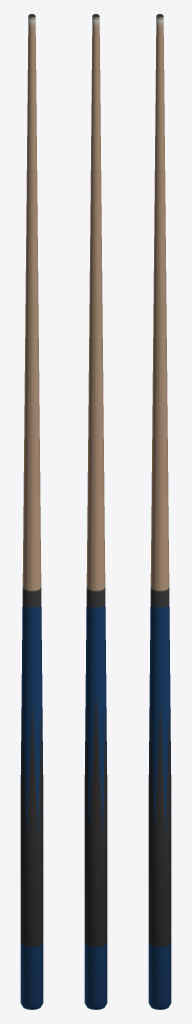
File: poolStick01.dae
3 views of the same model, side by side, from view 1: azimuth 30°, elevation 25°; view 2: azimuth 150°, elevation 25°; view 3: azimuth 330°, elevation 25° (orthographic).
Parts seen in each view (by area): view 1: poolStick01; view 2: poolStick01; view 3: poolStick01.
Part boxes in pixels (bbox=[...]): poolStick01: bbox=[20, 14, 43, 1009]; poolStick01: bbox=[84, 14, 107, 1009]; poolStick01: bbox=[148, 14, 171, 1009].
Size of the model in its own units: 3.08 by 147 by 3.08.
